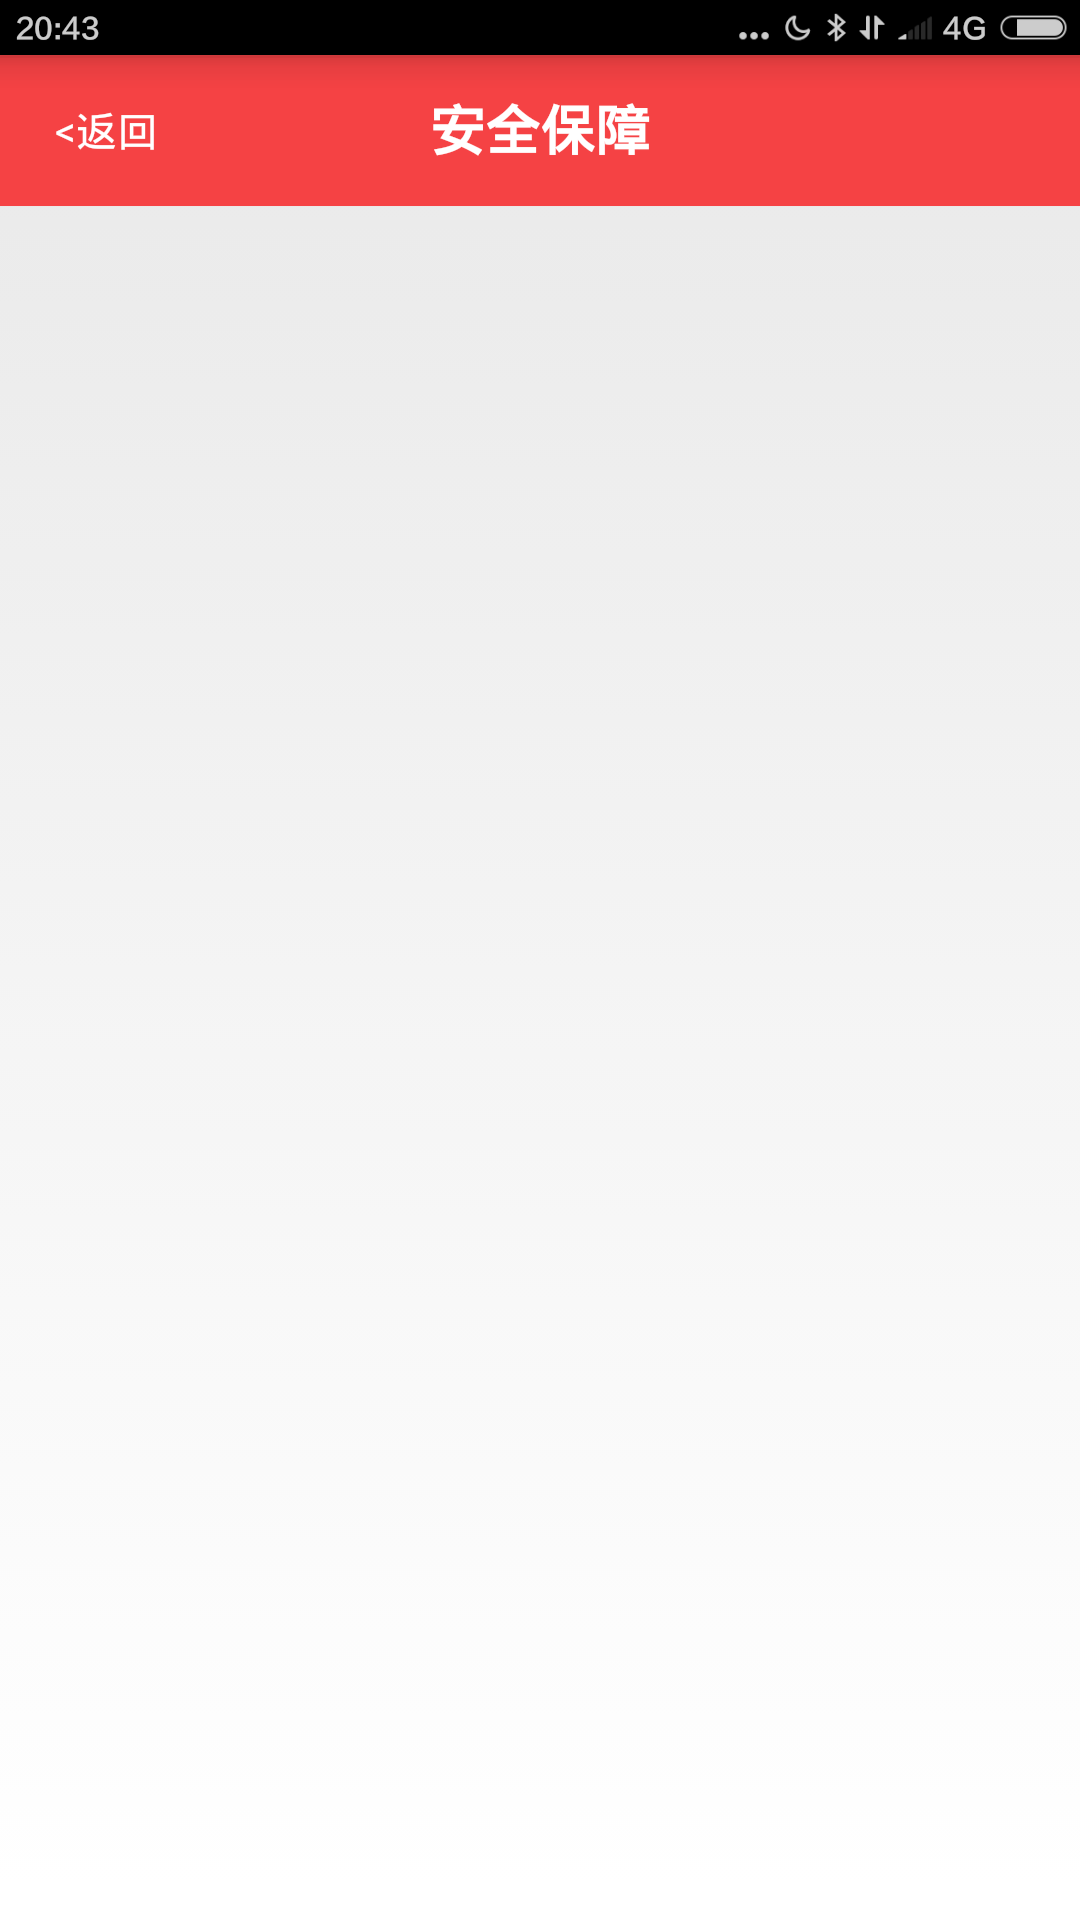textview: (392, 86, 686, 175)
